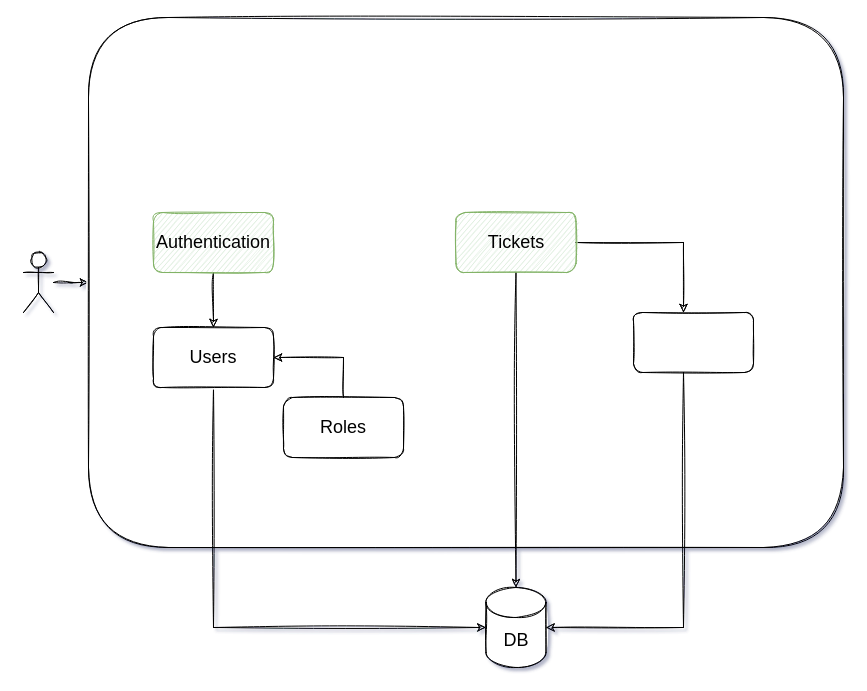
Image size: 867x691. Some labels were removed from this diagram. Each missing label, with the box of its shape:
Actor: (22, 252, 54, 312)
Comments: (632, 312, 754, 372)
